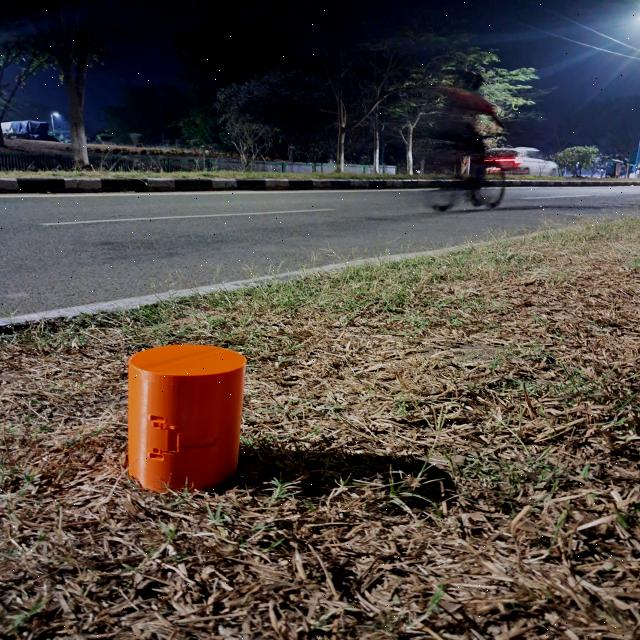Cylinder: (126, 343, 247, 494)
